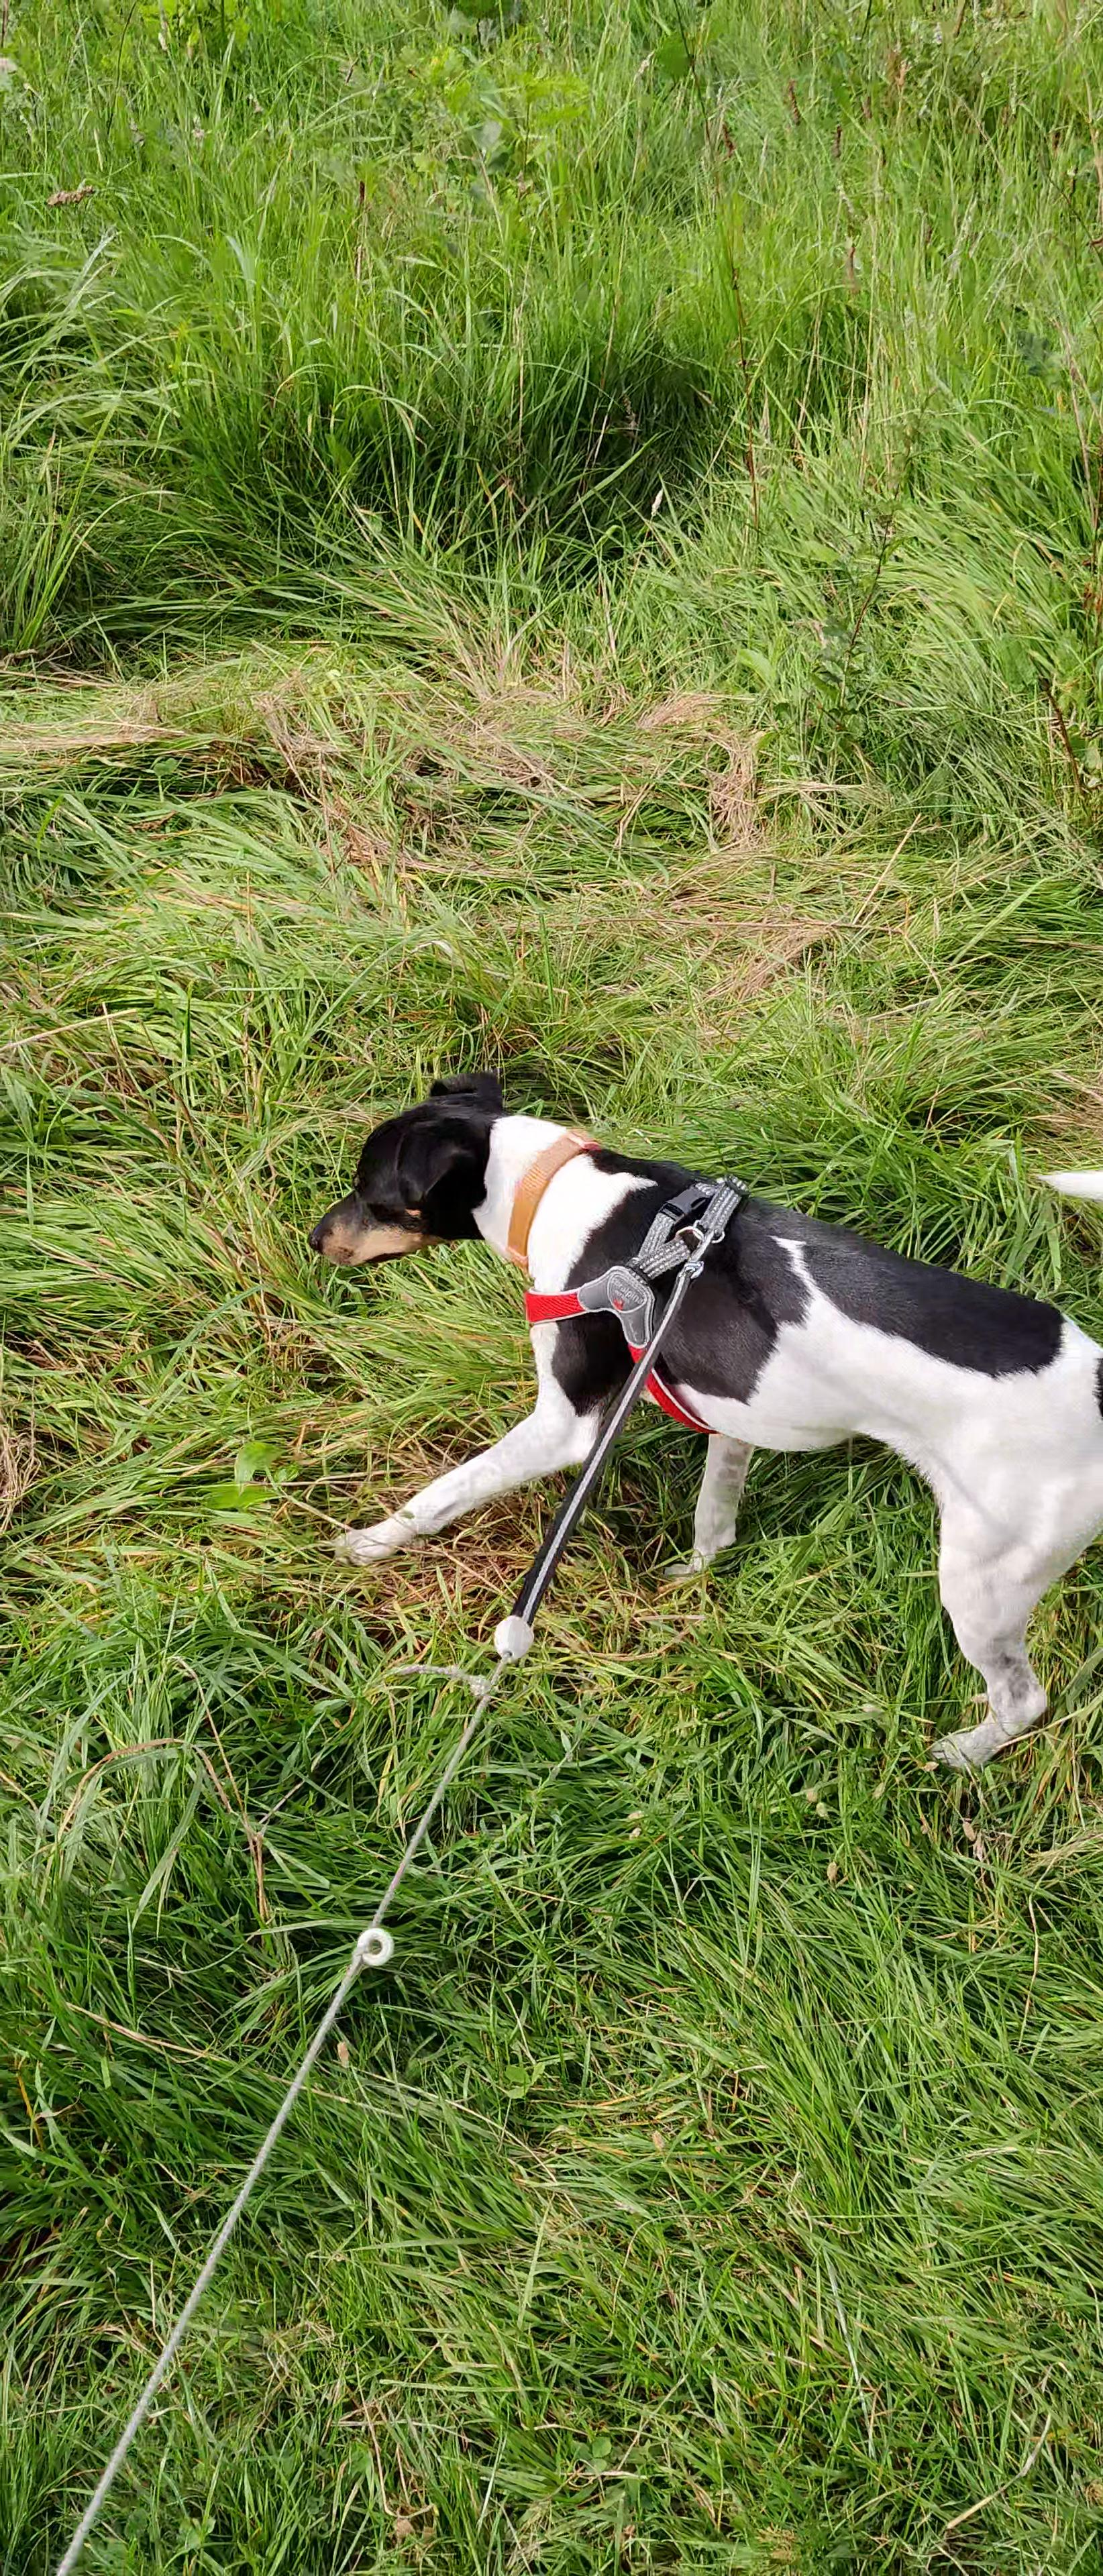Dog: (302, 1065, 1103, 1774)
